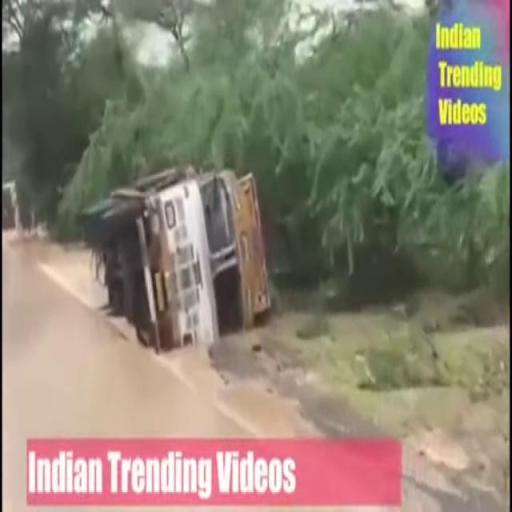小汽车: (86, 165, 274, 356)
